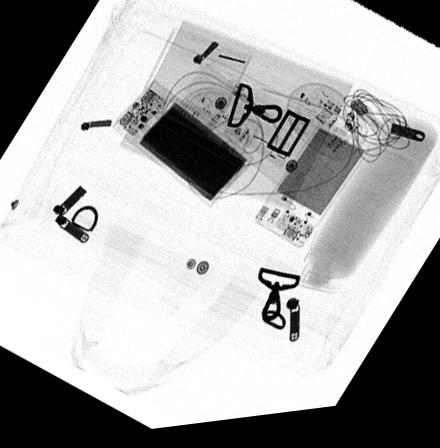Powerbank: (109, 79, 252, 213), (253, 126, 371, 254)
